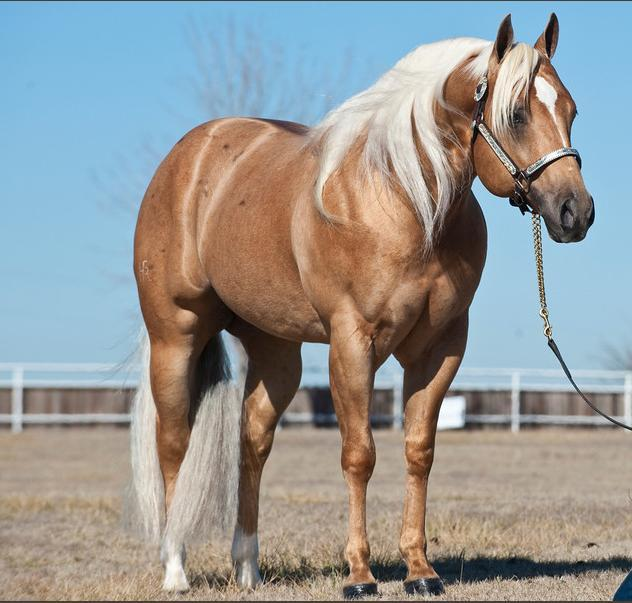horse: (122, 12, 595, 600)
